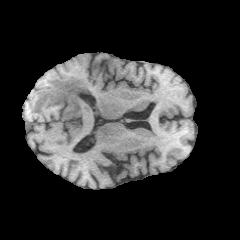glioma: (29, 78, 92, 118)
